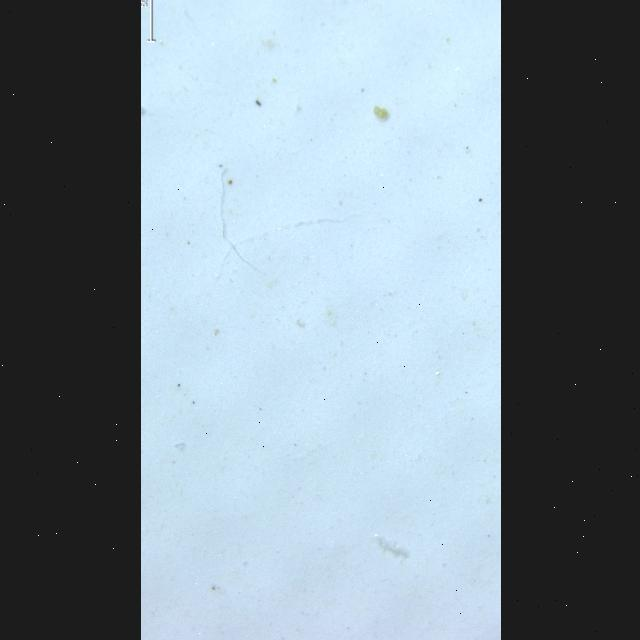Fibre: (219, 169, 259, 271), (235, 215, 359, 245), (222, 221, 237, 253), (262, 225, 292, 236), (301, 220, 321, 226), (322, 219, 343, 224)
Fragment: (373, 106, 386, 118)
